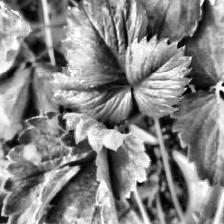Powdery Mildew Leaf: (55, 112, 151, 201), (41, 145, 122, 224), (0, 0, 31, 83)
